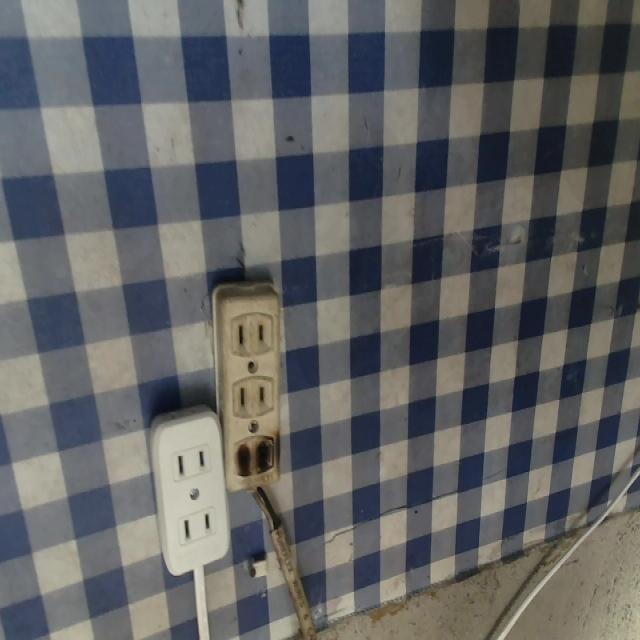-: (228, 425, 288, 488)
